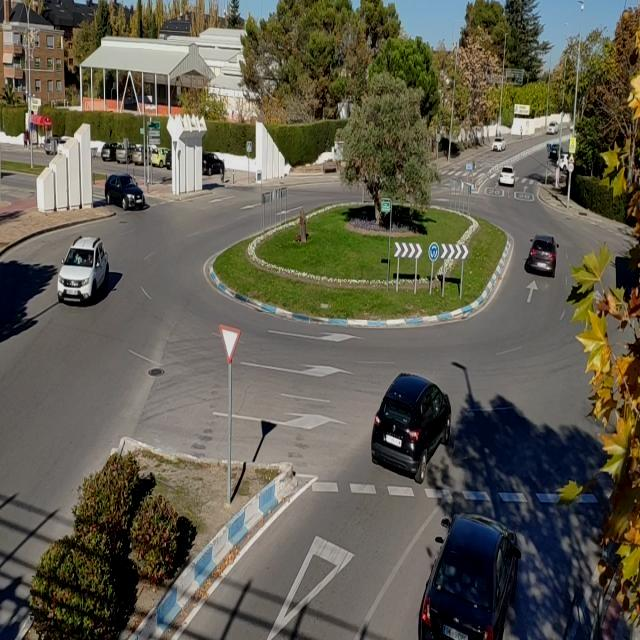Car: (415, 513, 525, 640), (370, 370, 454, 482), (60, 235, 111, 303), (523, 234, 560, 276), (104, 173, 144, 210), (203, 150, 226, 176), (498, 166, 516, 188), (152, 146, 170, 167), (99, 142, 116, 161), (491, 135, 507, 154), (46, 135, 60, 155), (546, 121, 560, 133)
